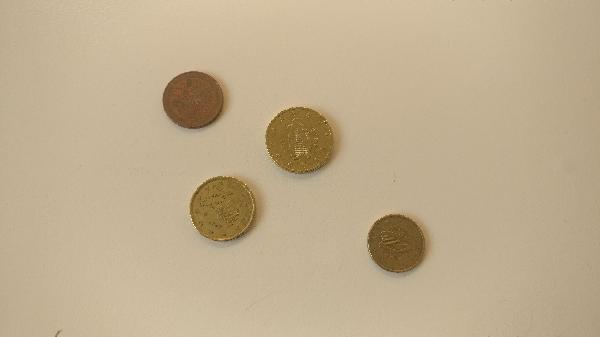Fifty Cent: (266, 108, 336, 173)
Five Cent: (163, 71, 224, 129)
Ten Cent: (363, 212, 427, 274)
Twenty Cent: (191, 175, 257, 242)
